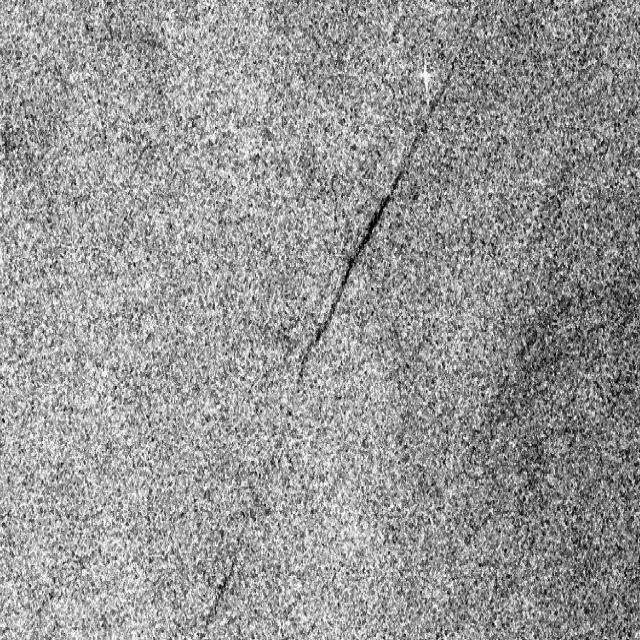oil-spill: (296, 153, 410, 397), (413, 12, 479, 156), (188, 519, 250, 636)
